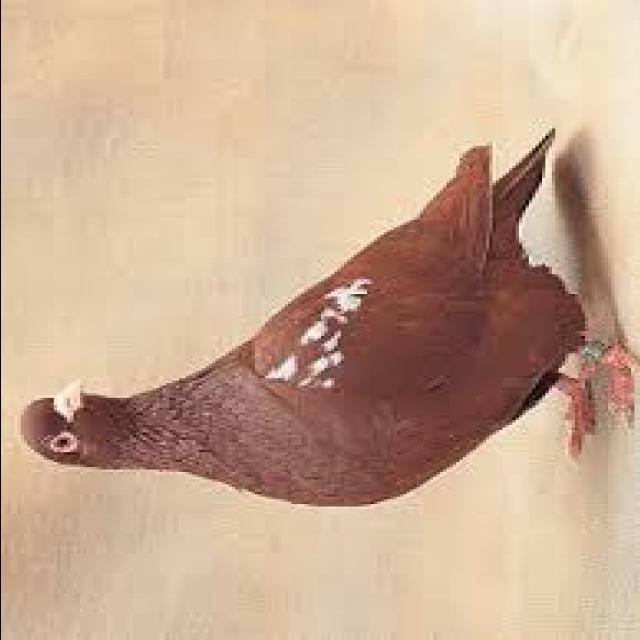pigeon: (0, 128, 640, 528)
